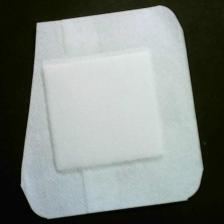Cut: (20, 6, 207, 221)
